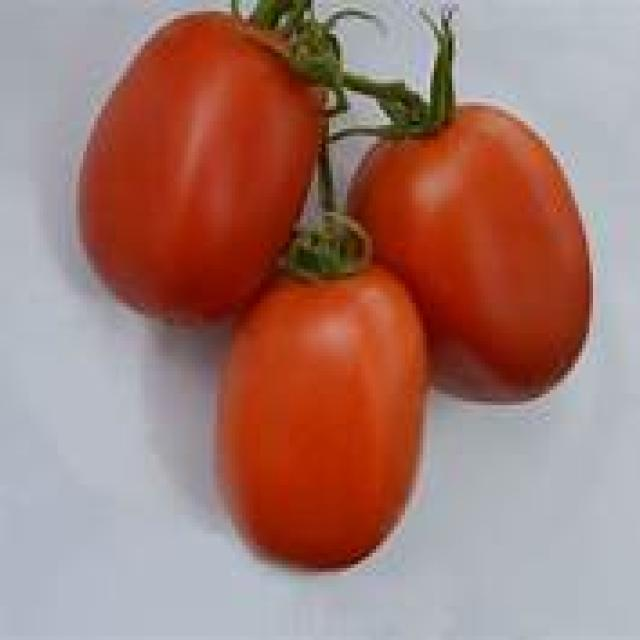Fresh_tomato: (371, 88, 592, 399), (81, 8, 289, 303)
